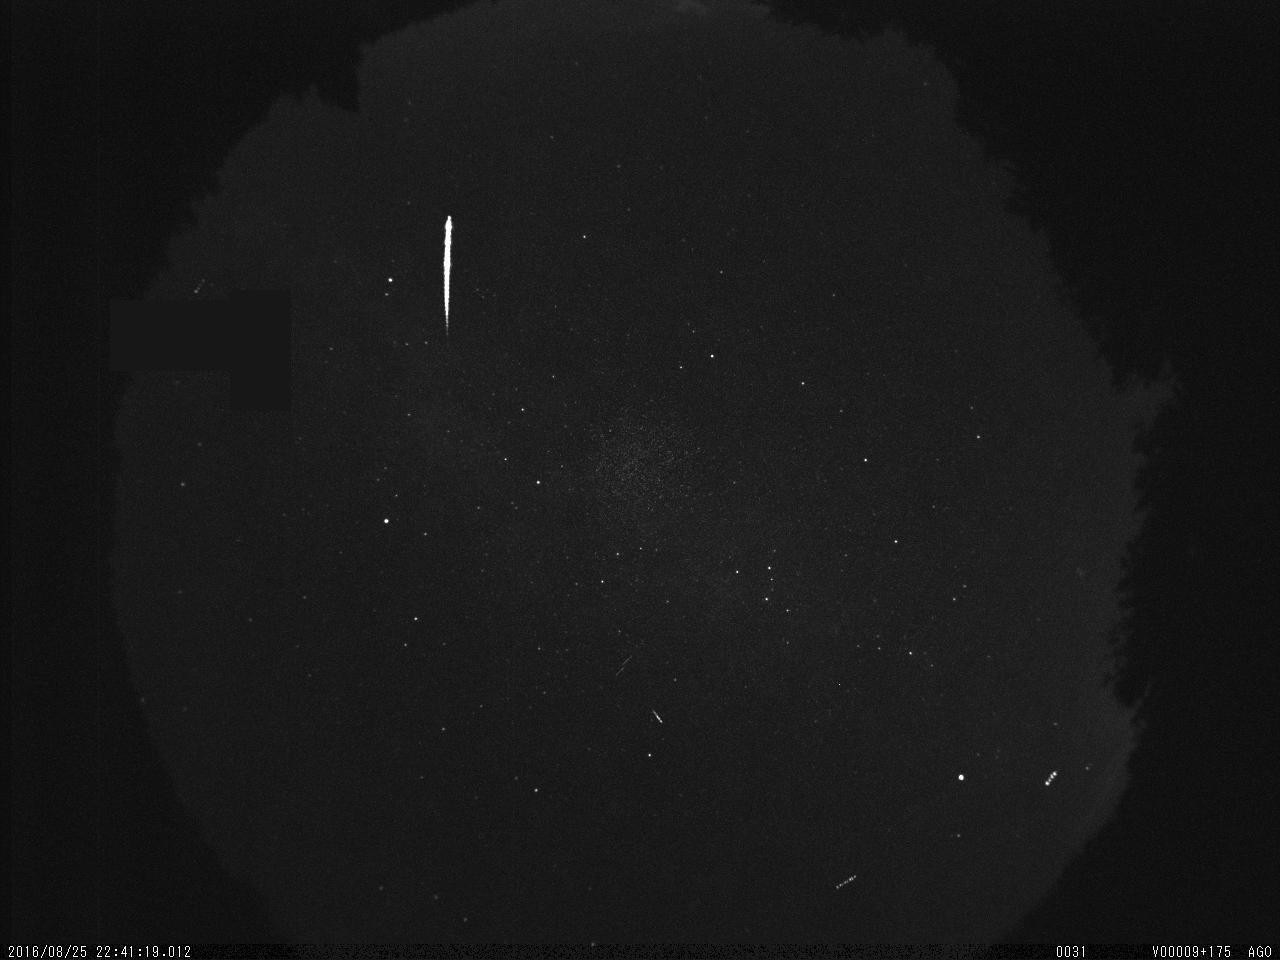meteor: (435, 208, 466, 341)
satelite: (831, 865, 866, 896), (1039, 767, 1063, 792)
